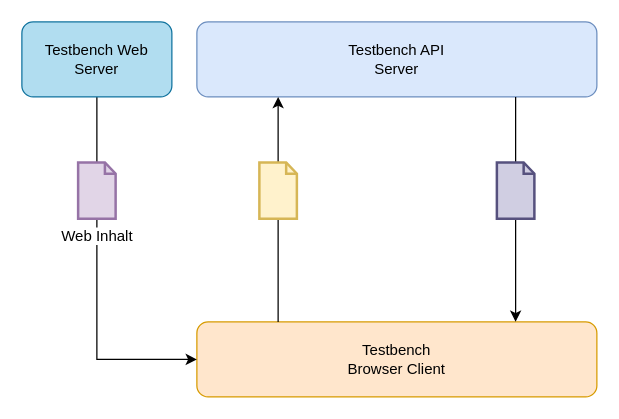
This 619x419 diagram has some shape labels left out. The shapes that lost their labels are listed below. From the top down, each one's centre as x and y in pixels, then its label:
point (278, 190): Praktikums- abgabe
point (515, 190): Auswertung .html
